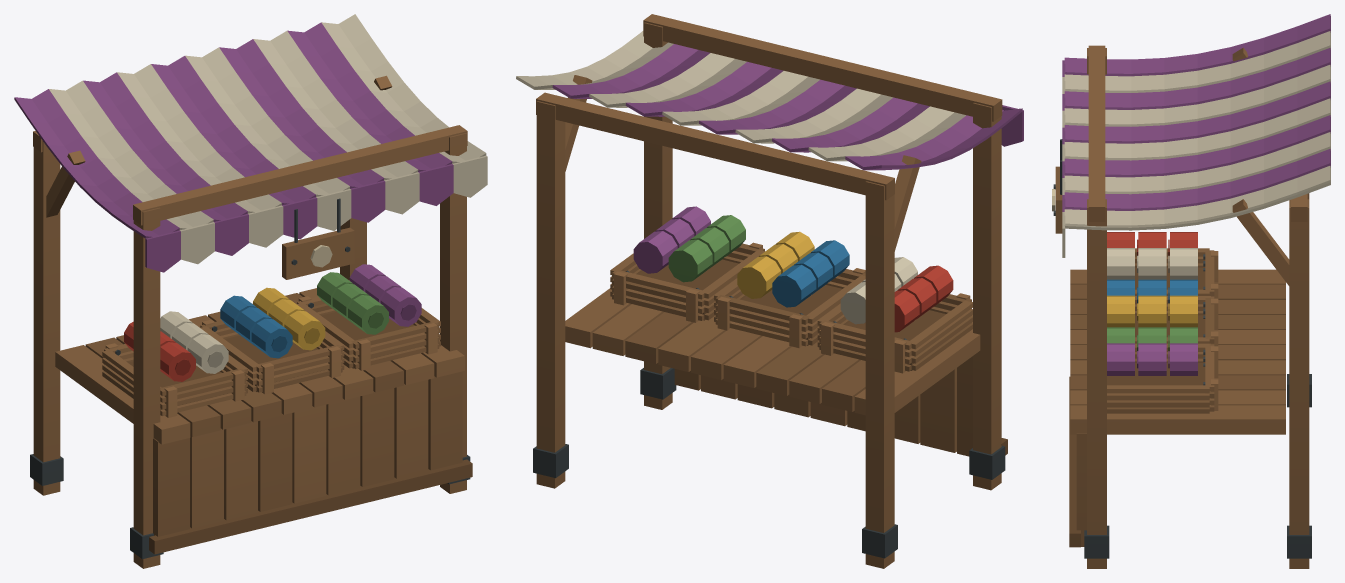
The model's file is town_stall_cloth.glb.
3 renders of one model, left to right at view 1: azimuth 30°, elevation 25°; view 2: azimuth 150°, elevation 25°; view 3: azimuth 270°, elevation 25°, orthographic. The views are drawn at different scales.
Parts seen in each view (by area): view 1: town_stall_cloth; view 2: town_stall_cloth; view 3: town_stall_cloth.
Boxes of the visible parts, box(x1,y1,x2,y2) form: town_stall_cloth: box(14, 14, 487, 568); town_stall_cloth: box(516, 14, 1023, 568); town_stall_cloth: box(1052, 14, 1330, 568).
Size of the model in its own units: 2.4 by 2.6 by 1.68.
